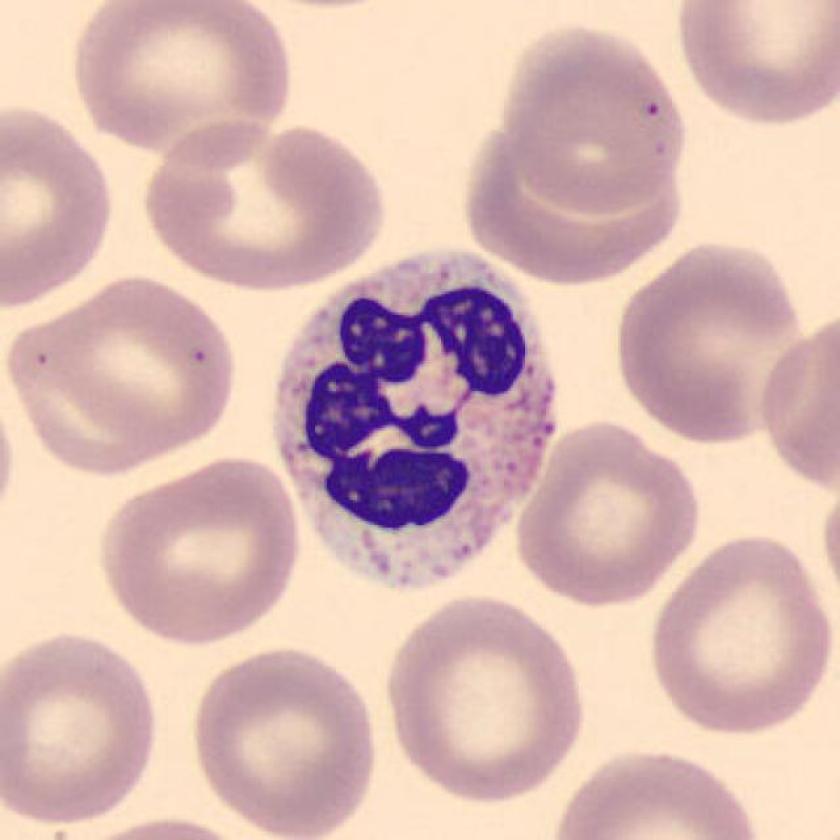neutrophil: (271, 248, 559, 593)
